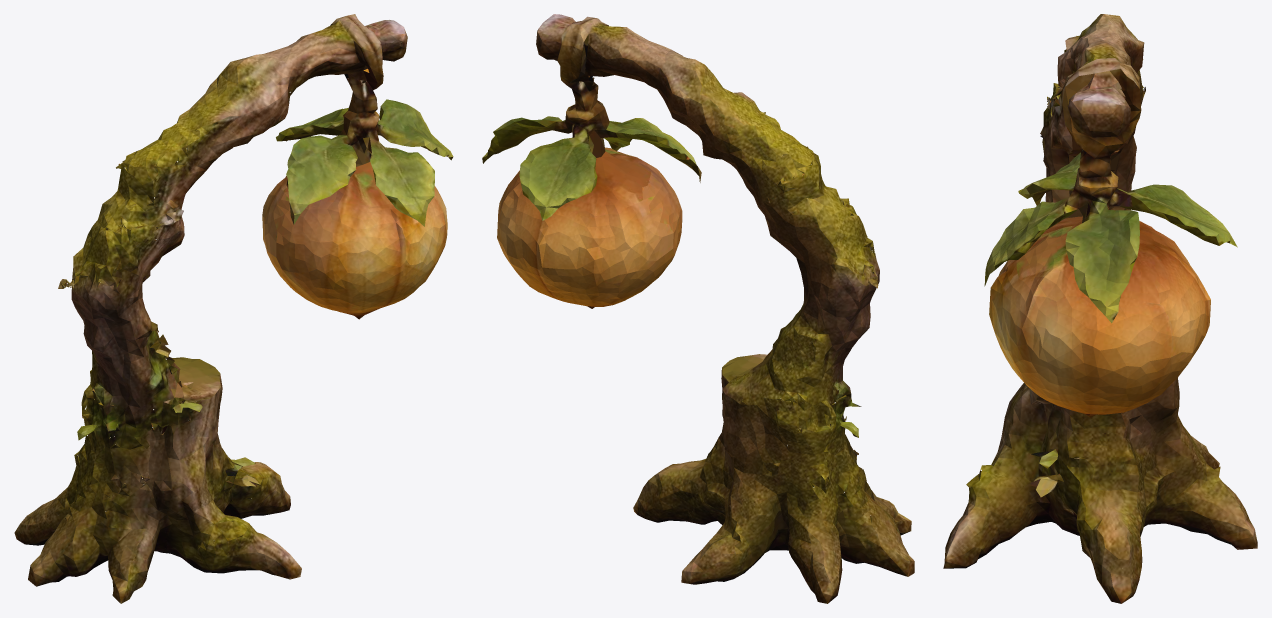
The model's file is fairy_pollen_lantern_1117.glb.
3 views of the same model, side by side, from view 1: azimuth 30°, elevation 25°; view 2: azimuth 150°, elevation 25°; view 3: azimuth 270°, elevation 25° (orthographic). The views are drawn at different scales.
Parts seen in each view (by area): view 1: world; view 2: world; view 3: world.
Boxes of the visible parts, bbox=[...] form: world: bbox=[14, 14, 453, 603]; world: bbox=[482, 14, 914, 603]; world: bbox=[943, 14, 1257, 603].
Bounding box in the file's own units: 0.9197 × 1 × 0.4878.
Materials: 1 (1 with a texture image).
